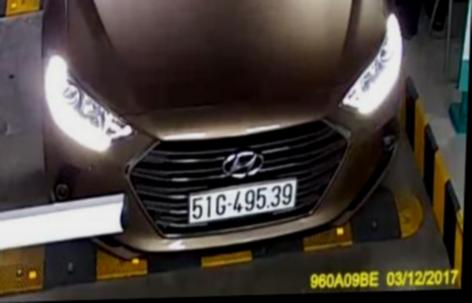License_Plate: (182, 178, 307, 225)
